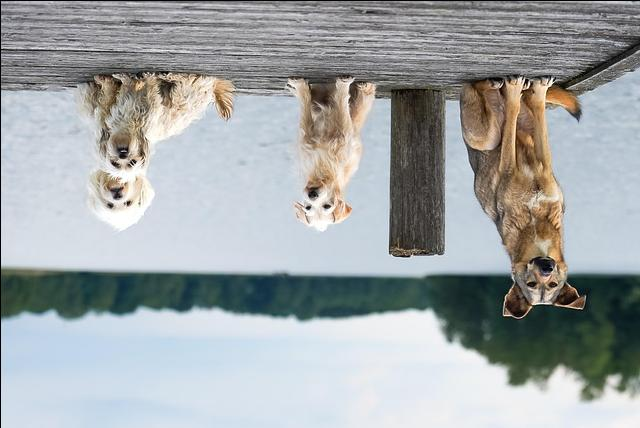Non_Gorille: (70, 50, 600, 334)
